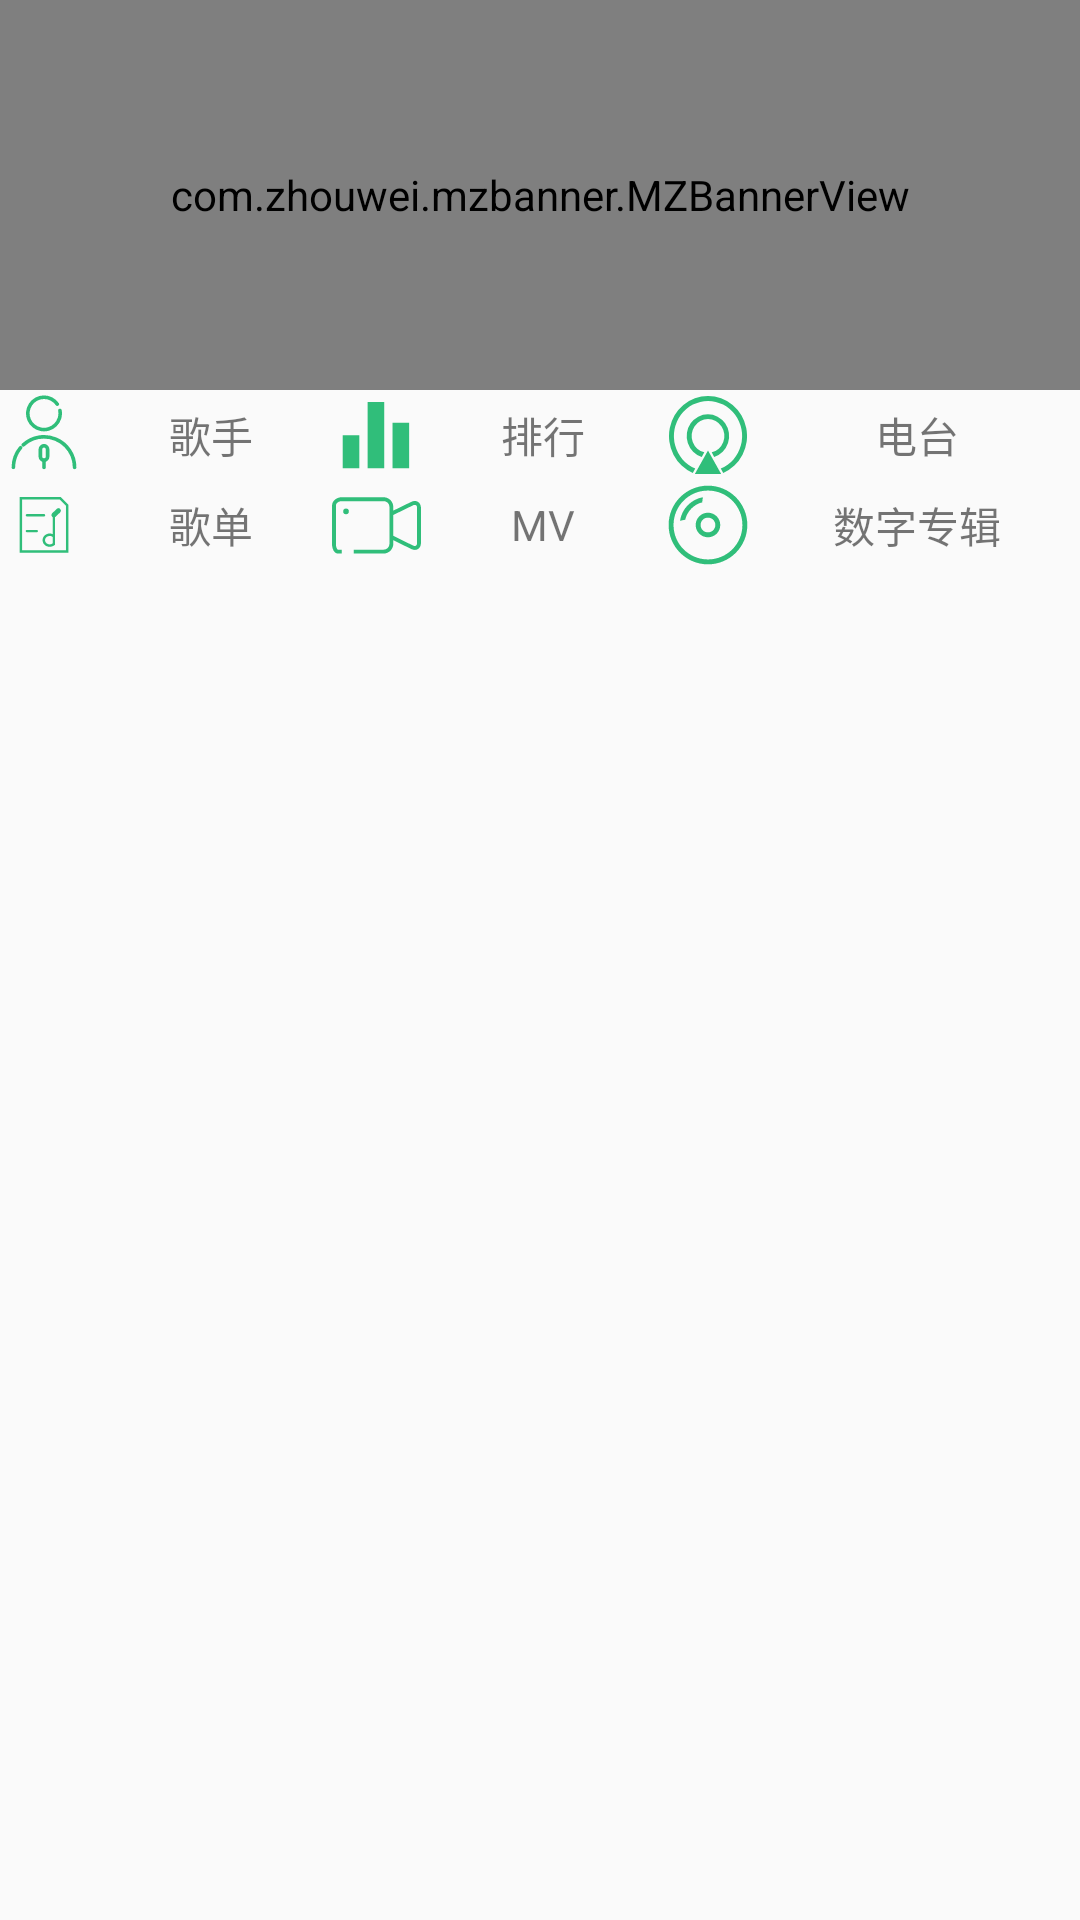

Screen size 1080x1920. Icon name, then its center in pixels as (x=x, y=y):
music hall album: (x=708, y=525)
music hall list: (x=44, y=525)
music hall radio: (x=708, y=435)
music hall rank: (x=376, y=435)
music hall singer: (x=44, y=432)
music hall video: (x=376, y=525)
